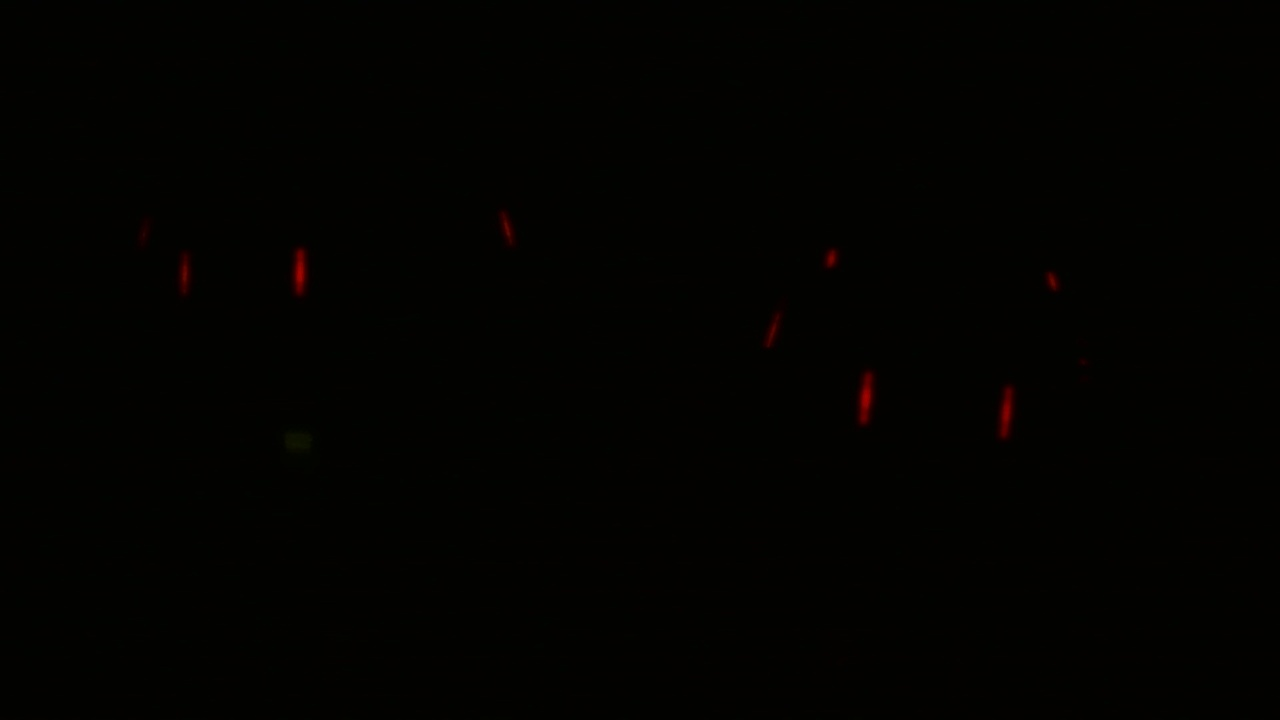pair1: (855, 369, 1019, 439), (172, 240, 308, 301)
